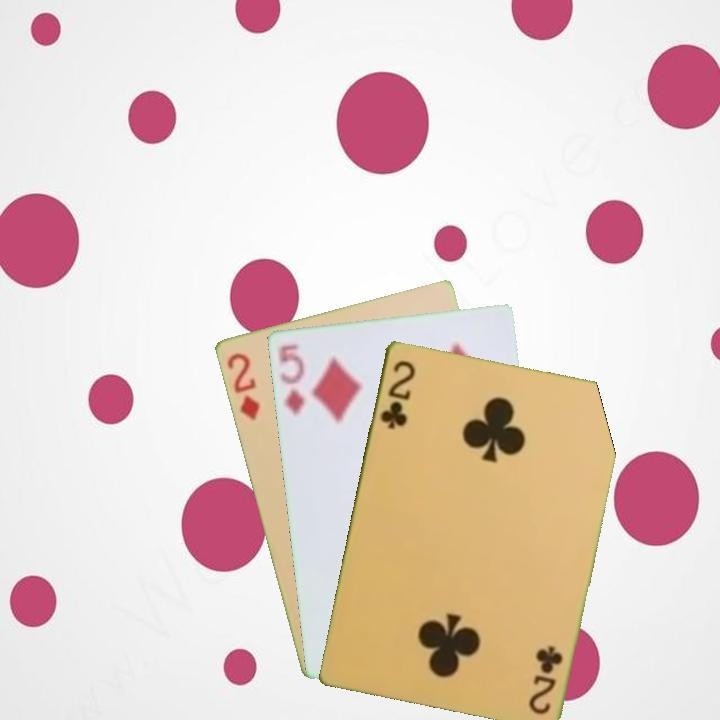2c: (376, 356, 418, 432), (525, 642, 566, 717)
2d: (223, 349, 262, 423)
5d: (274, 340, 307, 418)
